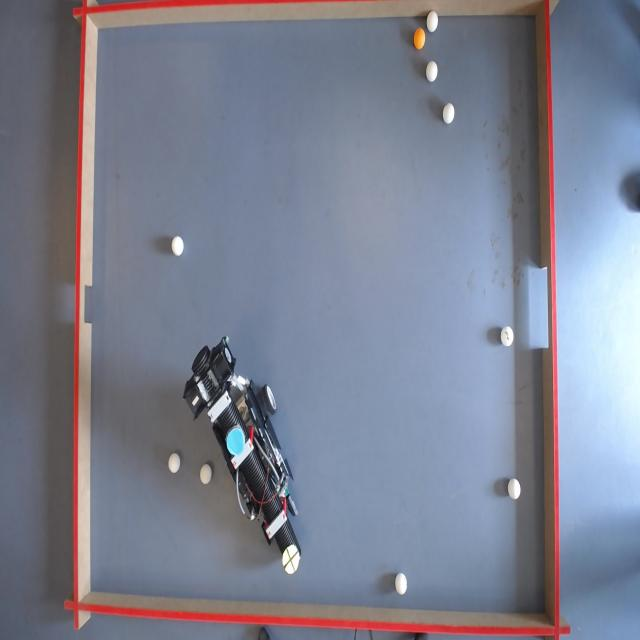orange: (414, 30, 428, 50)
robot: (186, 340, 302, 582)
robot-front: (284, 546, 300, 576)
robot-rear: (228, 426, 247, 458)
white: (394, 572, 408, 595), (510, 479, 524, 502), (500, 326, 514, 346), (444, 104, 457, 125), (426, 11, 439, 32), (172, 236, 184, 258), (426, 62, 438, 84), (169, 452, 181, 473), (200, 464, 212, 484)
